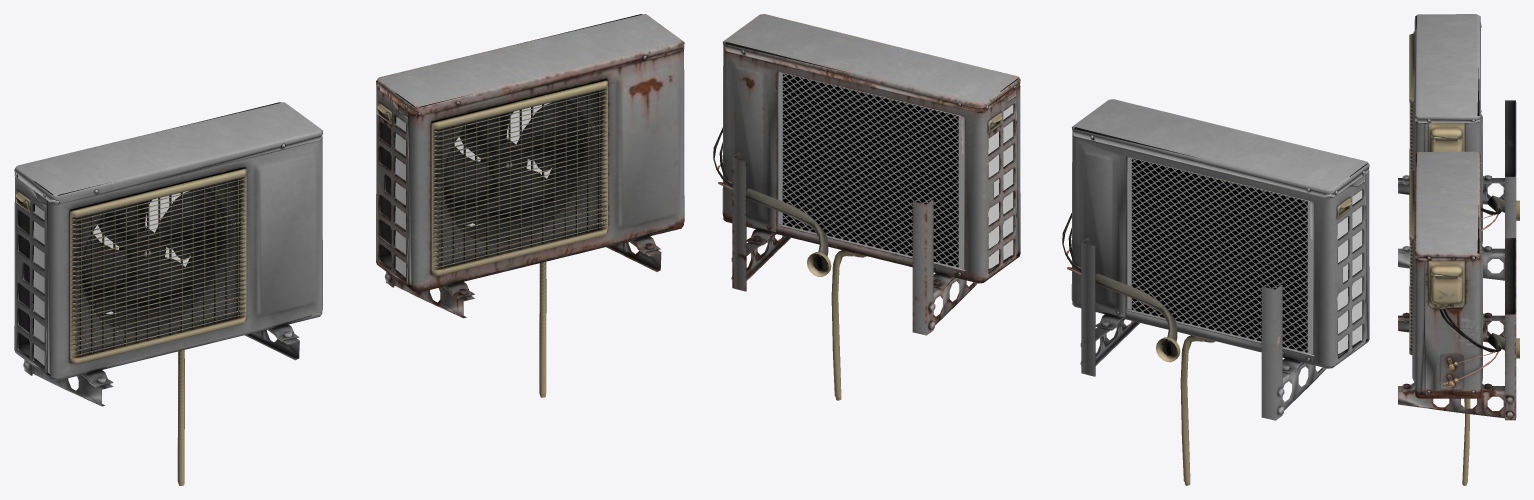
The model's file is exterior_aircon_unit.glb.
3 views of the same model, side by side, from view 1: azimuth 30°, elevation 25°; view 2: azimuth 150°, elevation 25°; view 3: azimuth 270°, elevation 25° (orthographic). The views are drawn at different scales.
Visible parts, largest first — view 1: exterior_aircon_unit_rusted, exterior_aircon_unit; view 2: exterior_aircon_unit, exterior_aircon_unit_rusted; view 3: exterior_aircon_unit_rusted, exterior_aircon_unit.
Boxes of the visible parts, x1,y1,x2,y2 form: exterior_aircon_unit_rusted: (376, 14, 684, 397); exterior_aircon_unit: (14, 102, 322, 485); exterior_aircon_unit: (1062, 99, 1369, 485); exterior_aircon_unit_rusted: (713, 14, 1020, 400); exterior_aircon_unit_rusted: (1398, 151, 1519, 485); exterior_aircon_unit: (1398, 14, 1519, 280).
Bounding box in the file's own units: 1.8 × 0.9279 × 0.3742.
4 materials, 4 textured.
